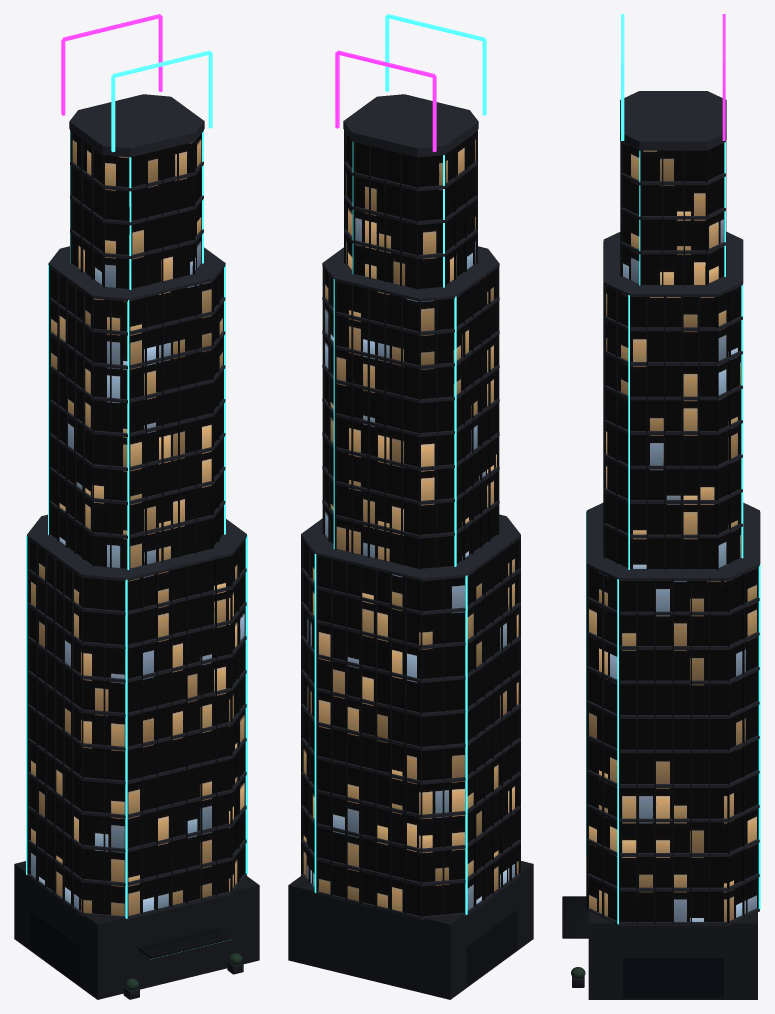
Rendered from neon-tower-a.glb.
3 renders of one model, left to right at view 1: azimuth 30°, elevation 25°; view 2: azimuth 150°, elevation 25°; view 3: azimuth 270°, elevation 25°, orthographic.
Visible parts, largest first — view 1: Building; view 2: Building; view 3: Building.
Boxes of the visible parts, bbox=[...] form: Building: bbox=[14, 14, 259, 999]; Building: bbox=[288, 14, 533, 999]; Building: bbox=[562, 14, 760, 999].
Size of the model in its own units: 18.54 by 96.15 by 18.75.
Materials: 9 (2 with a texture image).
